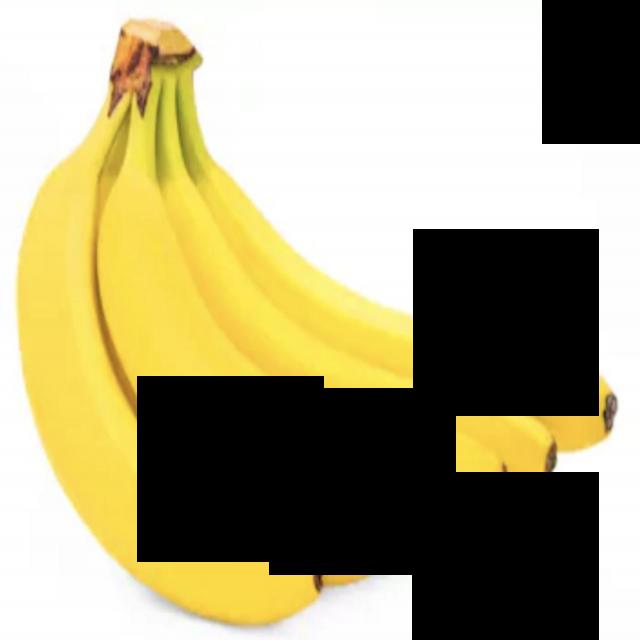banana: (90, 28, 526, 591), (1, 14, 344, 636)
